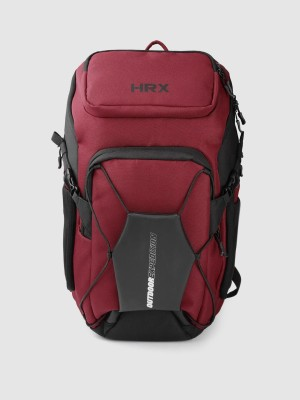backpack: (51, 39, 245, 342)
